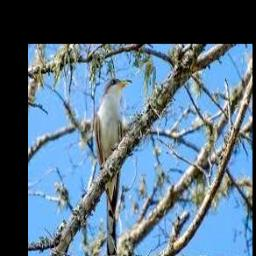Cuckoo: (94, 78, 131, 256)
